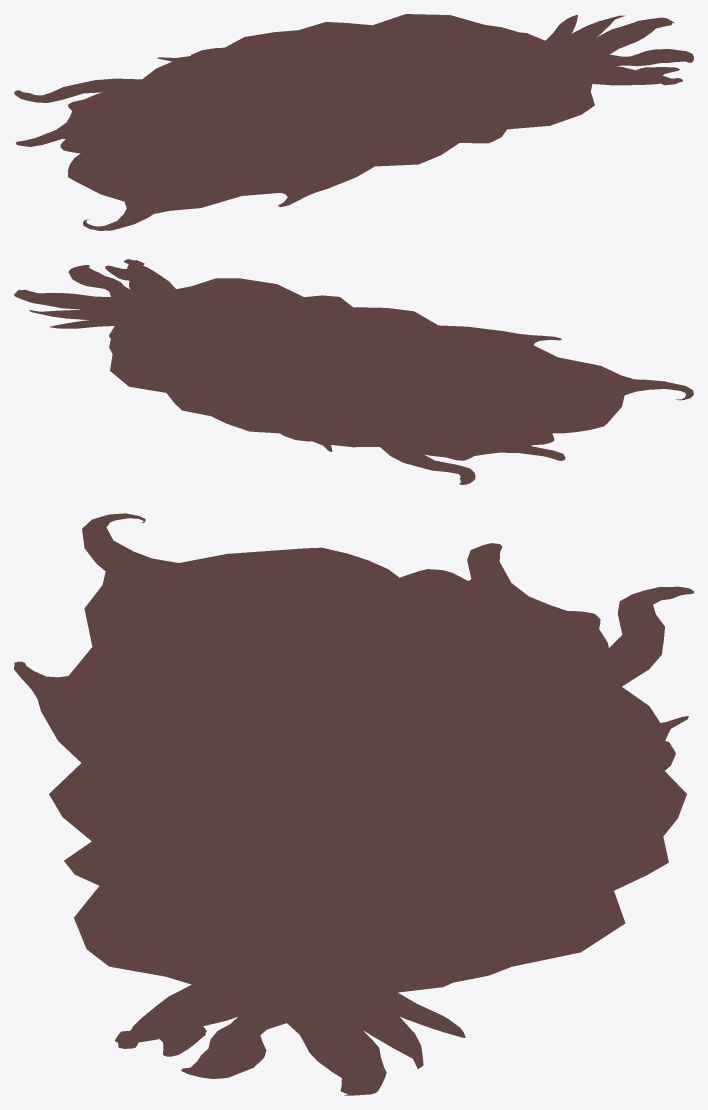
The model's file is avatarX.fbx.
3 renders of one model, top to bottom at view 1: azimuth 30°, elevation 25°; view 2: azimuth 150°, elevation 25°; view 3: azimuth 270°, elevation 25°, orthographic. The views are drawn at different scales.
Parts seen in each view (by area): view 1: pPlane2; view 2: pPlane2; view 3: pPlane2.
Boxes of the visible parts, x1,y1,x2,y2 form: pPlane2: (14, 14, 693, 230); pPlane2: (14, 259, 693, 484); pPlane2: (14, 513, 693, 1095).
Size of the model in its own units: 7.13 by 3.52 by 0.00322.
